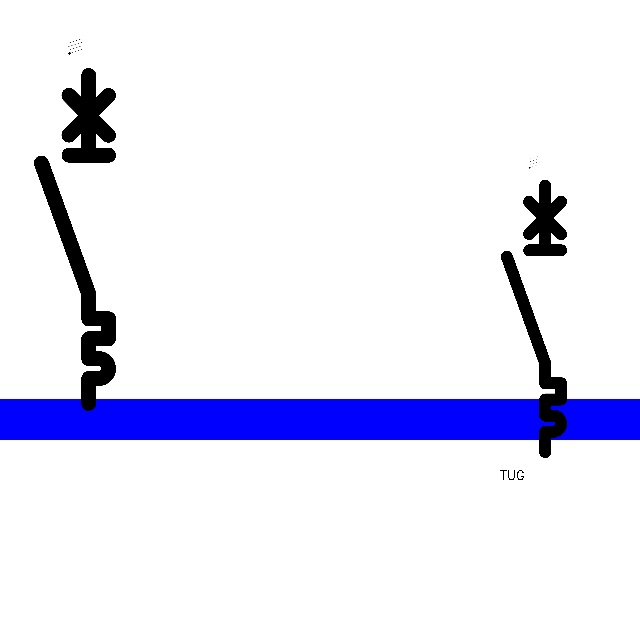interruptor_termomagnetico: (33, 67, 117, 412), (500, 178, 568, 458)
